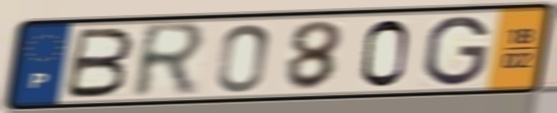0: (214, 21, 273, 95), (359, 17, 411, 90)
8: (284, 18, 345, 93)
B: (60, 26, 137, 100)
G: (421, 13, 492, 89)
R: (129, 19, 212, 103)
